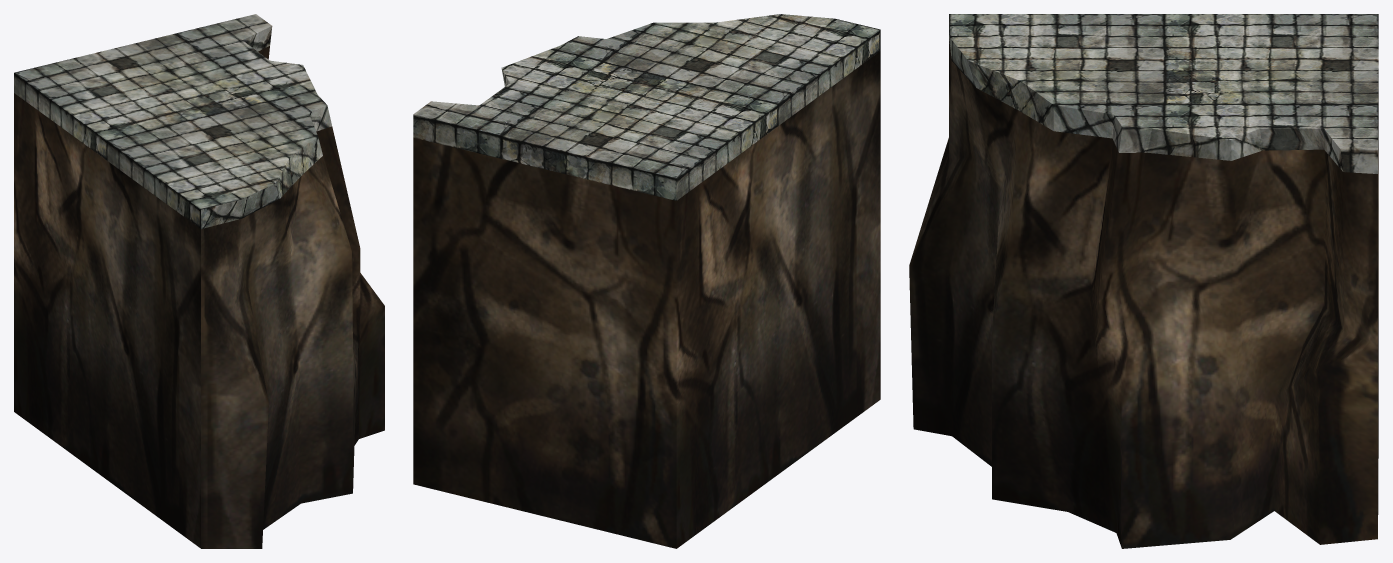
Rendered from STR_FloorTileBrokenA.FBX.
3 views of the same model, side by side, from view 1: azimuth 30°, elevation 25°; view 2: azimuth 150°, elevation 25°; view 3: azimuth 270°, elevation 25° (orthographic). The views are drawn at different scales.
Parts seen in each view (by area): view 1: STR_FloorTileBrokenA; view 2: STR_FloorTileBrokenA; view 3: STR_FloorTileBrokenA.
Boxes of the visible parts, x1,y1,x2,y2 form: STR_FloorTileBrokenA: [14, 14, 384, 548]; STR_FloorTileBrokenA: [413, 14, 880, 548]; STR_FloorTileBrokenA: [909, 14, 1378, 548].
Bounding box in the file's own units: 640 × 800 × 874.
